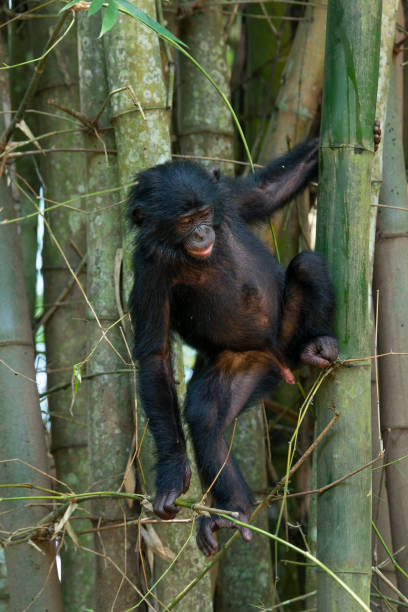chimpanzee: (111, 155, 240, 265)
